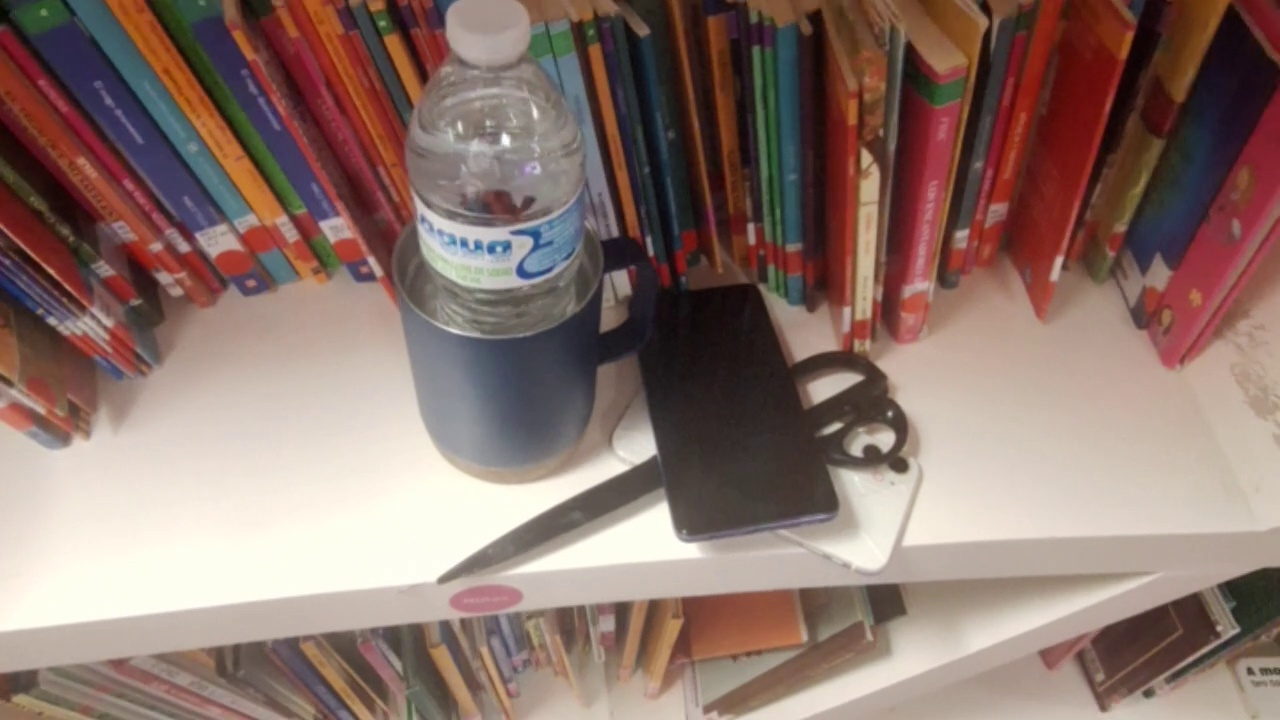botella: (390, 4, 617, 490)
